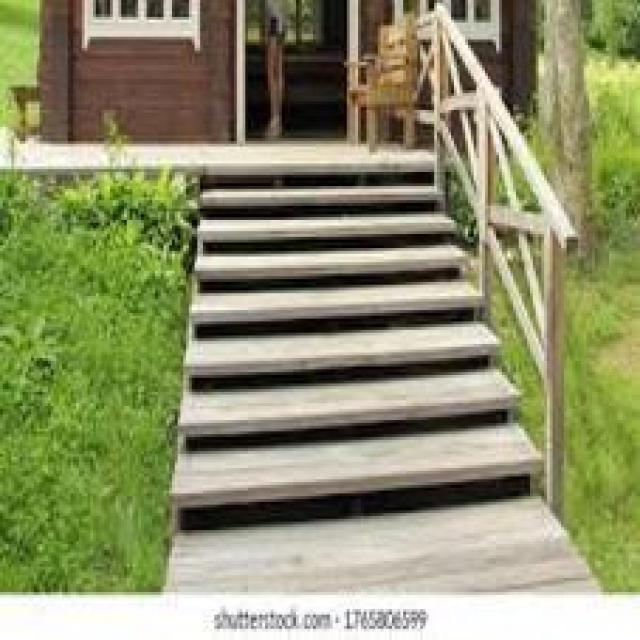upstair: (151, 269, 545, 489)
